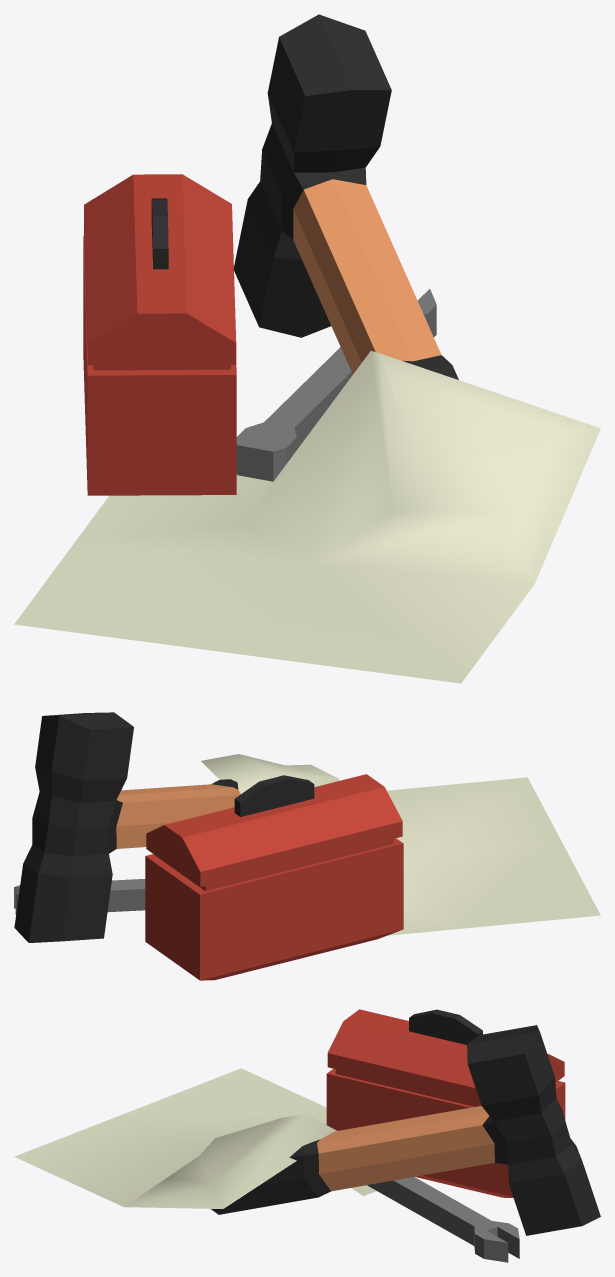
File: tools.fbx
3 views of the same model, one above another, from view 1: azimuth 30°, elevation 25°; view 2: azimuth 150°, elevation 25°; view 3: azimuth 270°, elevation 25° (orthographic). The views are drawn at different scales.
Parts seen in each view (by area): view 1: Cube; view 2: Cube; view 3: Cube.
Part boxes in pixels (x1,y1,x2,y2): Cube: [14, 14, 600, 683]; Cube: [14, 712, 600, 980]; Cube: [14, 1009, 600, 1262].
Bounding box in the file's own units: 108 × 53.35 × 134.
